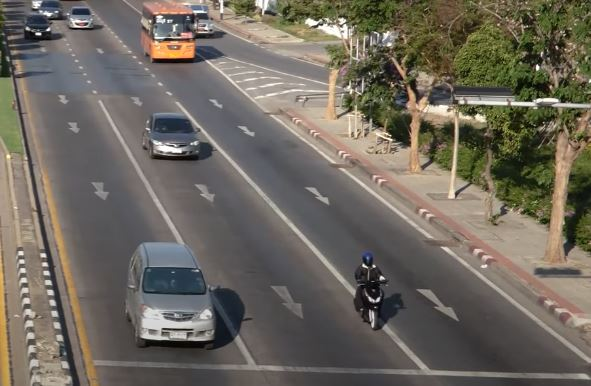Bus: (140, 1, 196, 62)
Car: (126, 241, 218, 350), (142, 111, 200, 162), (22, 13, 53, 41), (66, 6, 95, 31), (192, 11, 216, 36), (38, 1, 63, 18)
Motorcycle: (351, 253, 390, 333)
